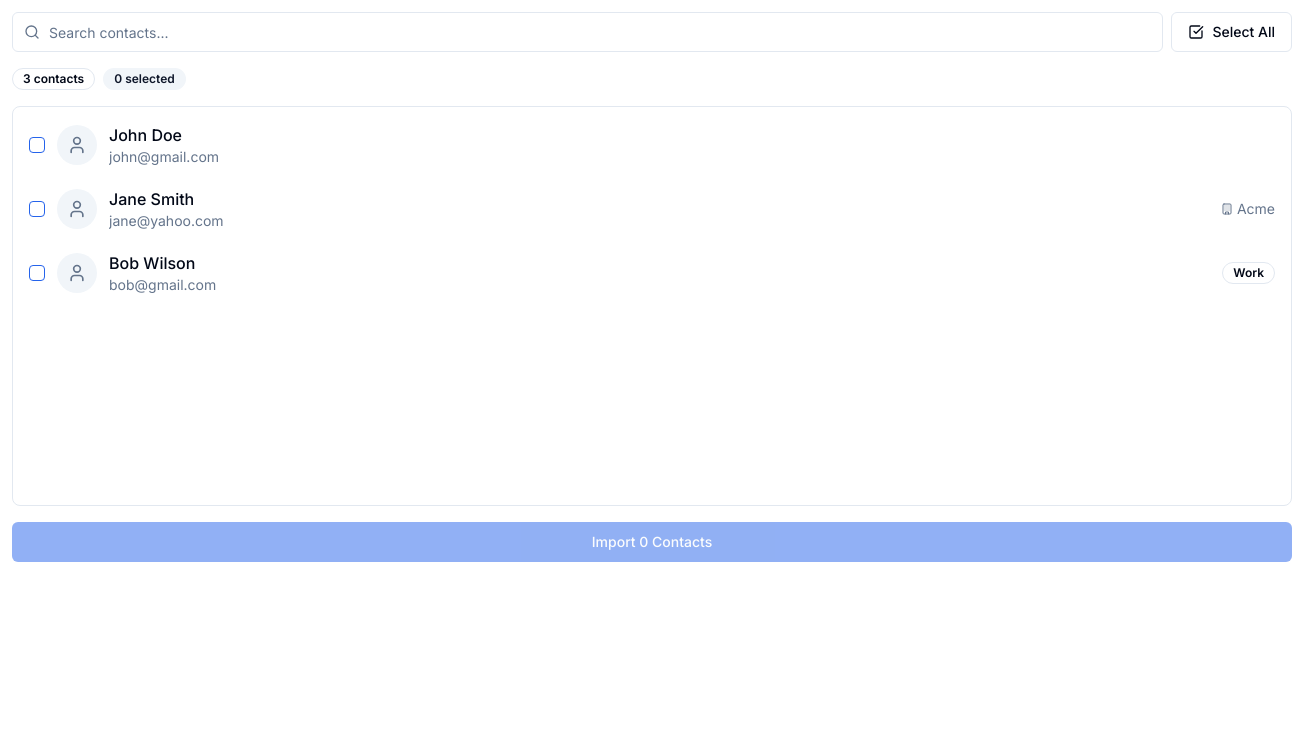
ContactSelector › selects all contacts when select all is clicked
This screenshot has width=1304, height=732.
Click the button "Select All" at [1232, 32], box [1171,12,1292,52]
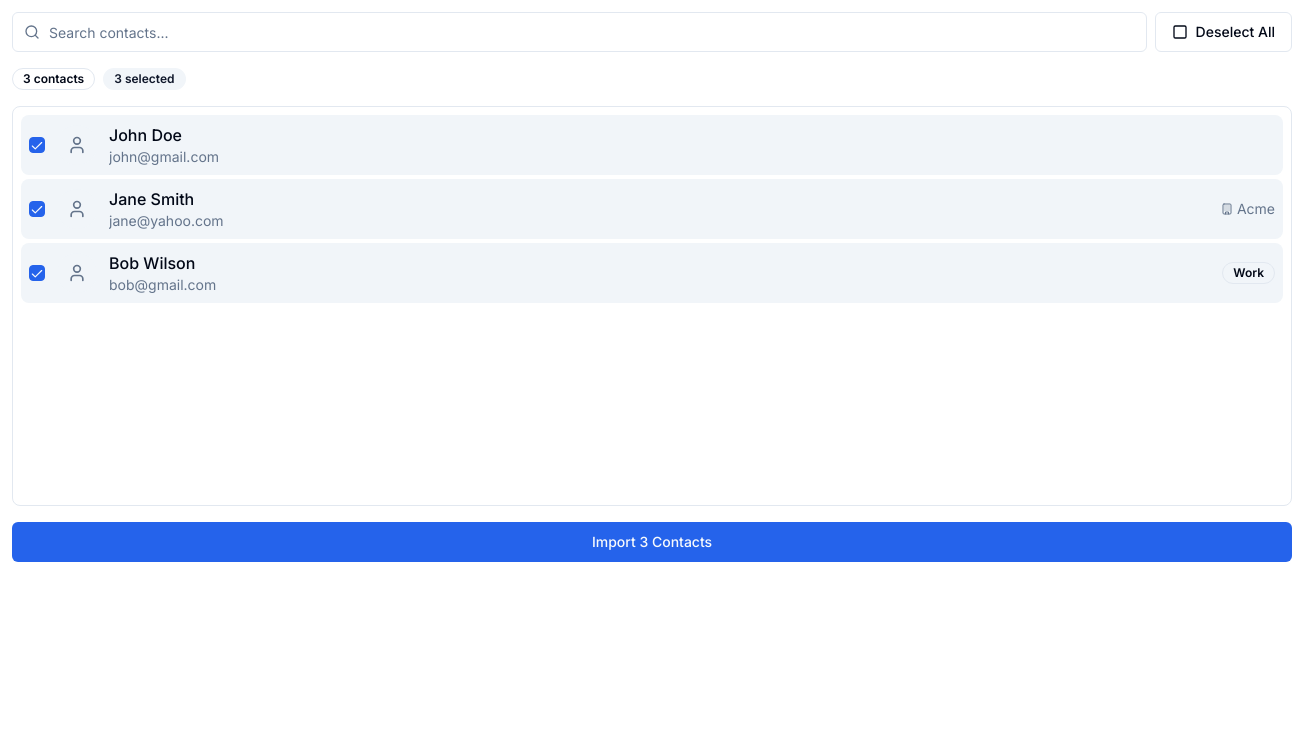
Expected: the text "3 selected" is shown, [103,68,186,90]
